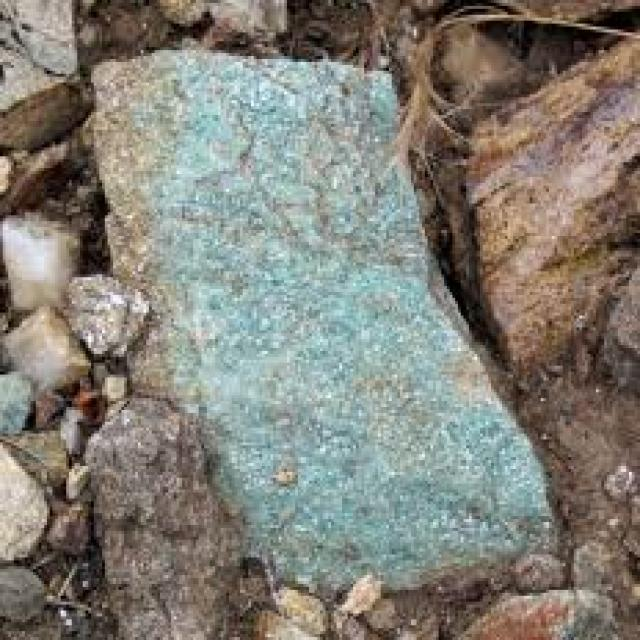Metamorphic: (69, 50, 574, 578)
